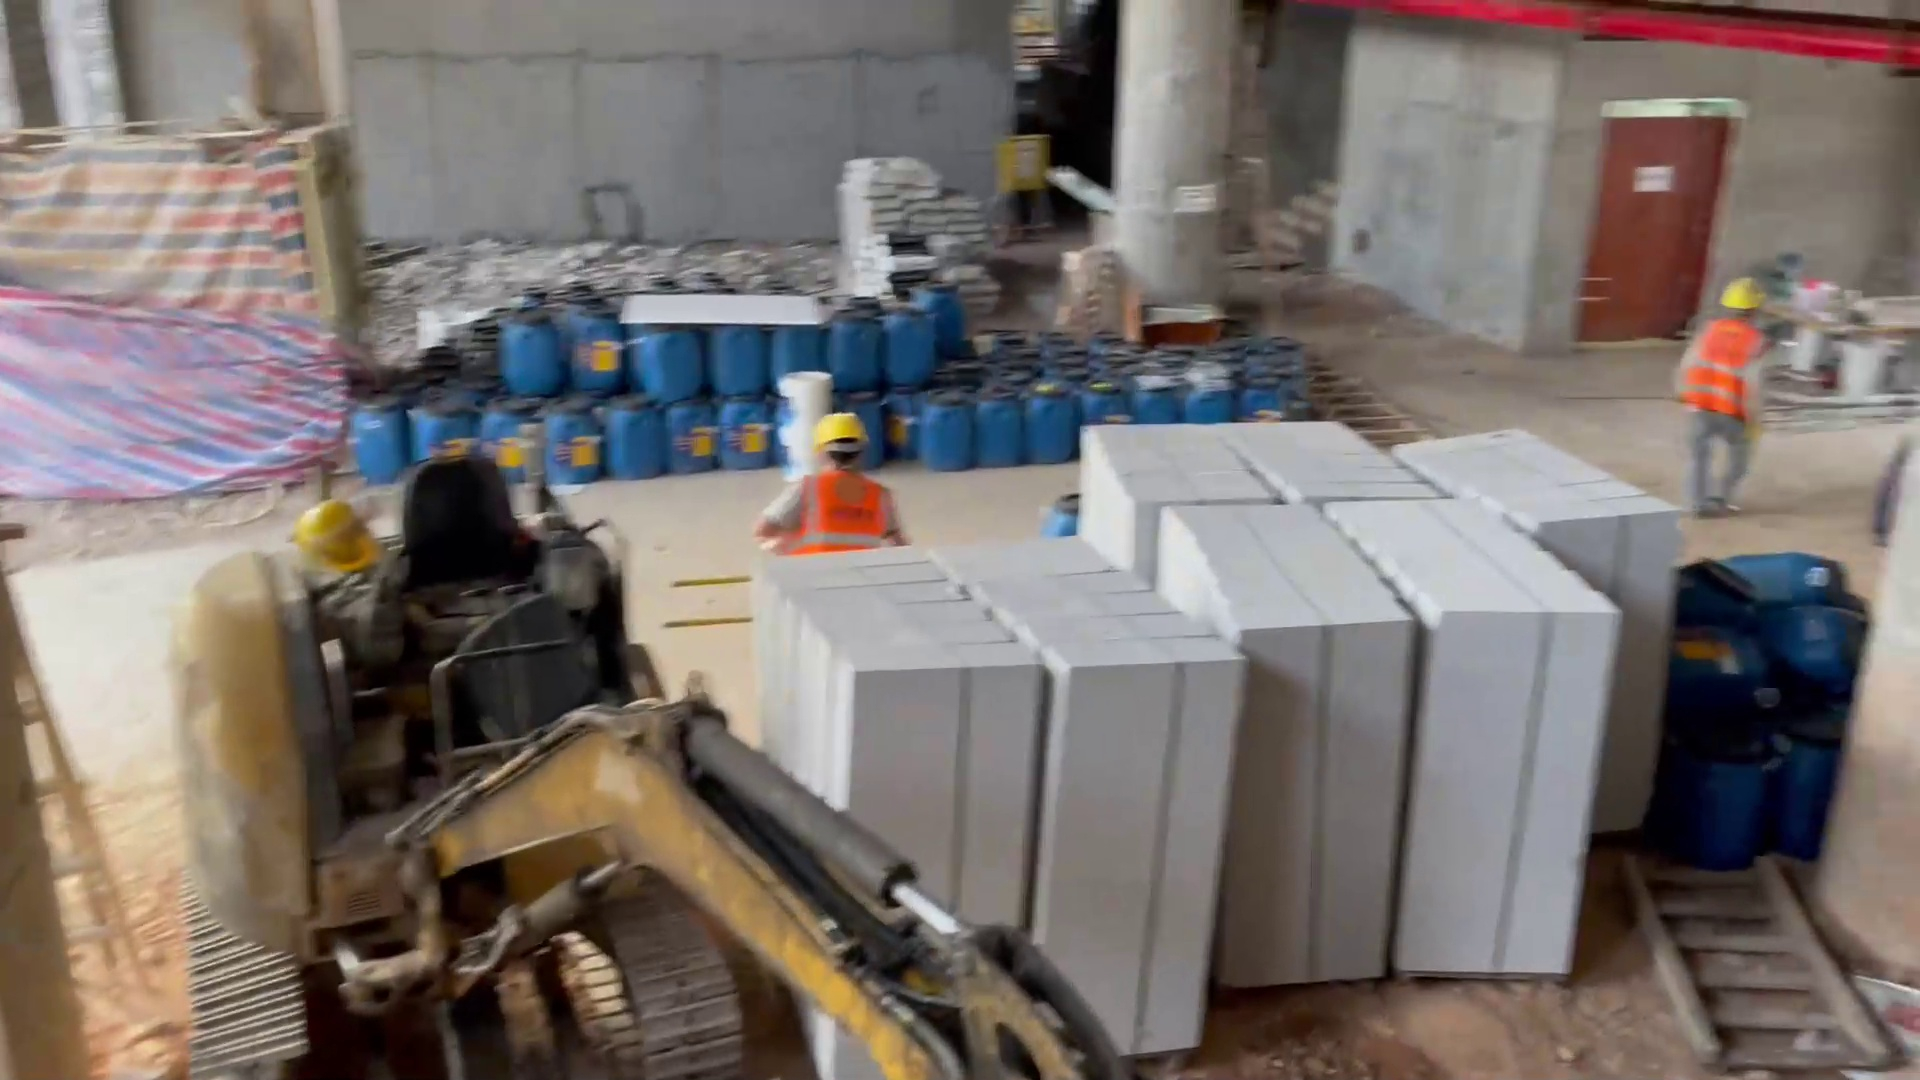brick: (1064, 424, 1679, 1003), (747, 556, 1223, 1063)
ebox: (980, 120, 1055, 247)
helmet: (289, 499, 397, 568), (812, 410, 882, 445), (1725, 277, 1762, 308)
person: (765, 411, 915, 563), (1678, 279, 1770, 520)
vest: (766, 470, 904, 561), (1679, 314, 1766, 427)
